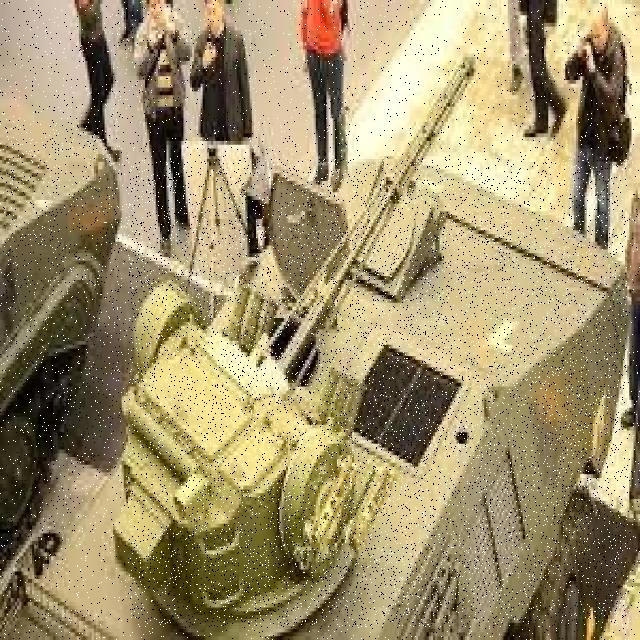MIL_MBT: (128, 160, 627, 627), (6, 104, 122, 442)
